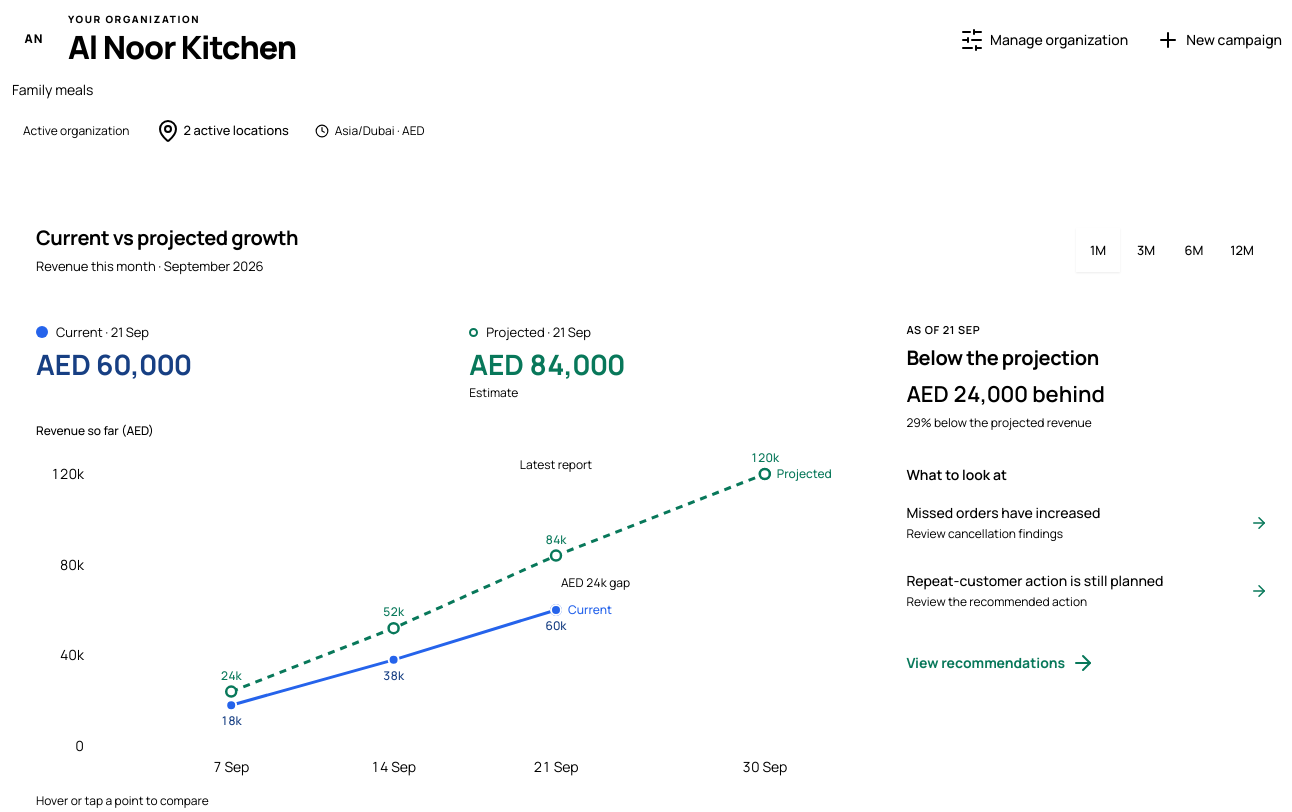
Scenario: OrganizationHome growth section › mounts the fixed-projection section first with its stable identity
The image size is (1292, 812).
Expected: the heading "Below the projection" is shown, [906, 344, 1099, 371]
Expected: the text "AED 24,000 behind" is shown, [906, 379, 1105, 409]
Step 1. Click the button named "3 months" → (1146, 250), box [1124, 228, 1168, 272]
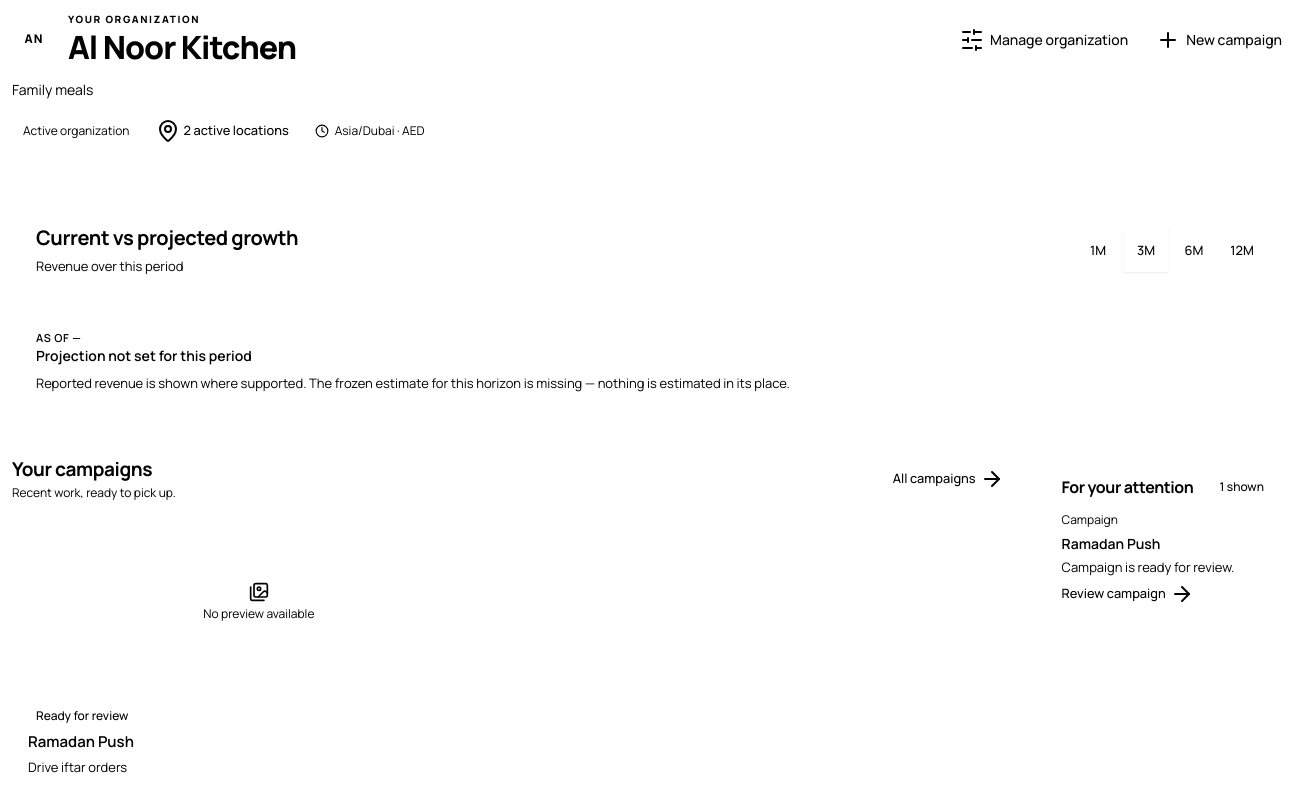
Result: the text "Projection not set for this period" is shown at [36, 346, 252, 365]
